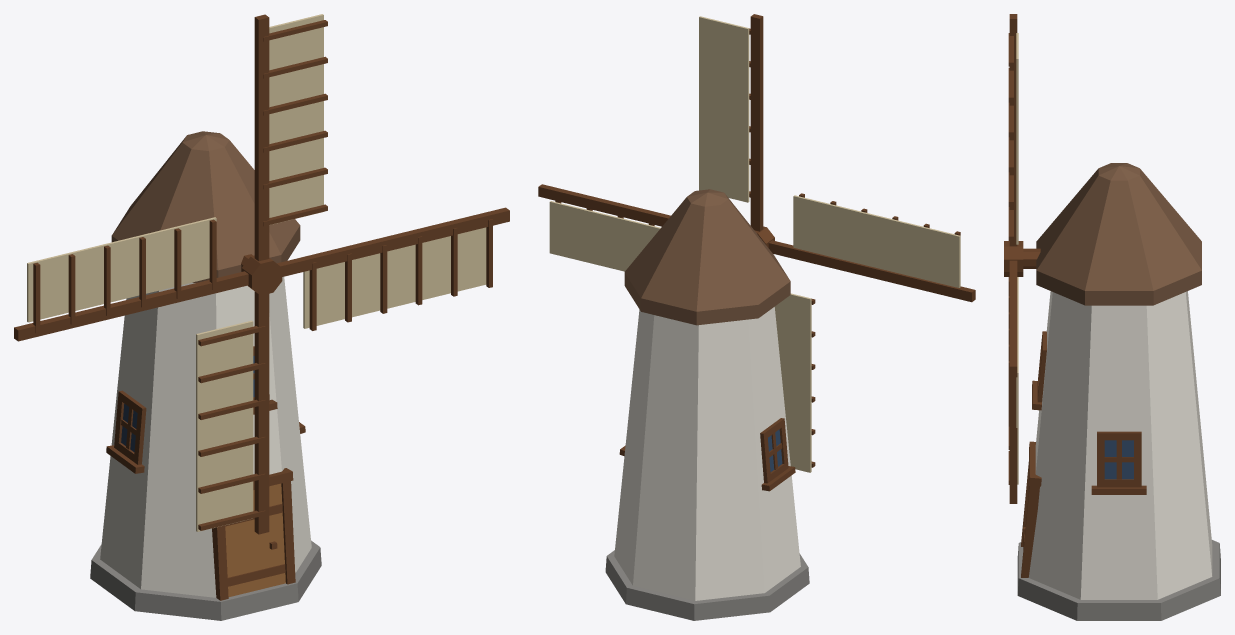
The model's file is pixor-library-windmill.glb.
The picture shows the model from 3 angles, left to right: view 1: azimuth 30°, elevation 25°; view 2: azimuth 150°, elevation 25°; view 3: azimuth 270°, elevation 25°; orthographic projection. The views are drawn at different scales.
Visible parts, largest first — view 1: Windmill sails, Windmill tower, Windmill cap, Windmill plinth, Windmill door, Windmill door frame, Windmill window frames; view 2: Windmill tower, Windmill sails, Windmill cap, Windmill plinth, Windmill window frames; view 3: Windmill tower, Windmill cap, Windmill sails, Windmill plinth, Windmill window frames, Windmill door frame, Windmill windows, Windmill axle.
Part boxes in pixels (<box>): Windmill sails: <box>14,14,509,534</box>; Windmill tower: <box>100,276,311,597</box>; Windmill cap: <box>111,131,300,282</box>; Windmill plinth: <box>90,540,321,620</box>; Windmill door: <box>225,483,285,596</box>; Windmill door frame: <box>212,468,295,600</box>; Windmill window frames: <box>106,346,305,473</box>; Windmill tower: <box>614,307,800,600</box>; Windmill sails: <box>538,14,975,472</box>; Windmill cap: <box>624,189,790,325</box>; Windmill plinth: <box>605,550,809,620</box>; Windmill window frames: <box>619,418,795,491</box>; Windmill tower: <box>1028,291,1212,599</box>; Windmill cap: <box>1036,163,1201,305</box>; Windmill sails: <box>1004,14,1023,503</box>; Windmill plinth: <box>1017,540,1220,620</box>; Windmill window frames: <box>1032,331,1146,494</box>; Windmill door frame: <box>1021,441,1041,577</box>; Windmill windows: <box>1104,440,1133,479</box>; Windmill axle: <box>1023,248,1040,268</box>.
Size of the model in its own units: 8.36 by 9.69 by 3.39.
